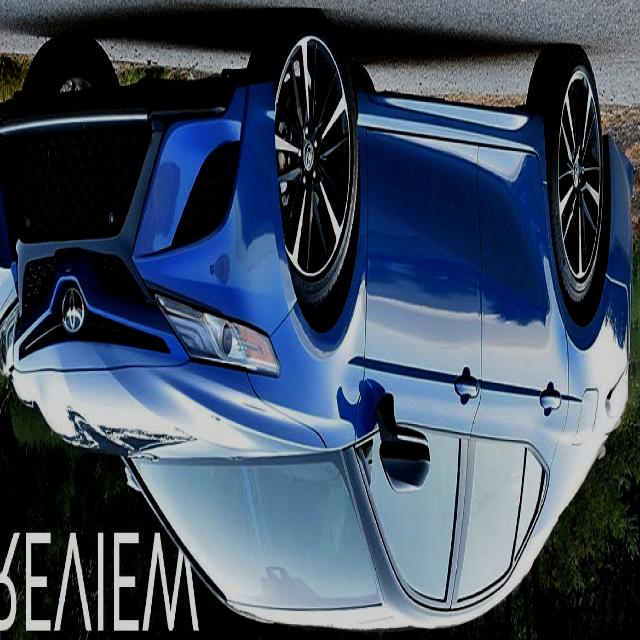blue: (0, 37, 636, 628)
